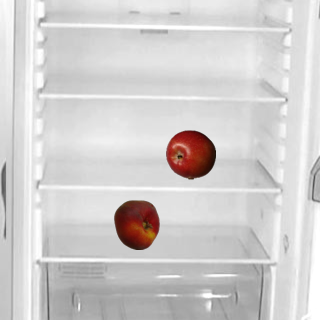Apple Braeburn: (165, 129, 215, 179)
Nectarine Flat: (111, 199, 161, 249)
